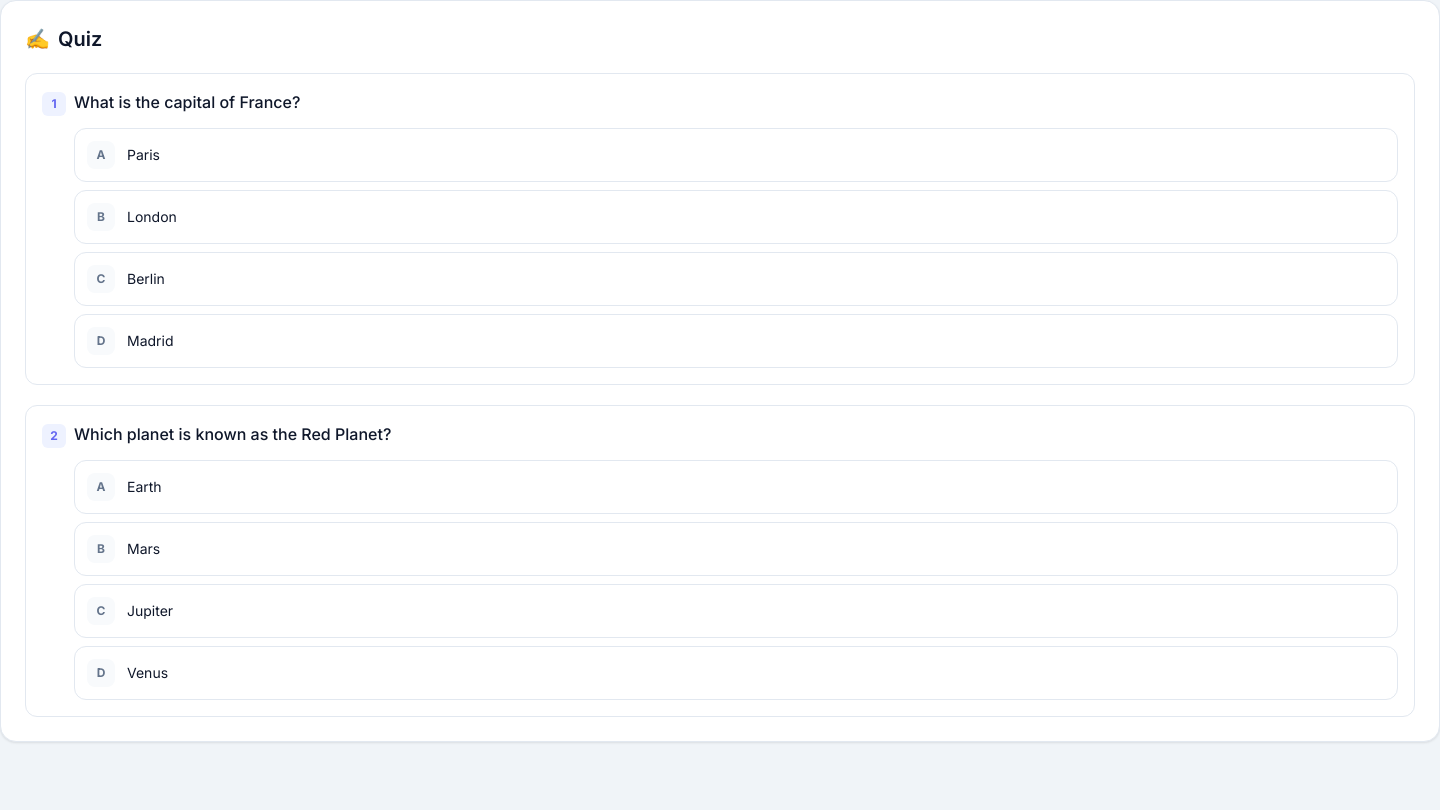
Scenario: Quiz Component › shows correct/incorrect feedback after submission
Step 1. Click the text "Paris" → (144, 154), box left=127, top=146, right=160, bottom=163
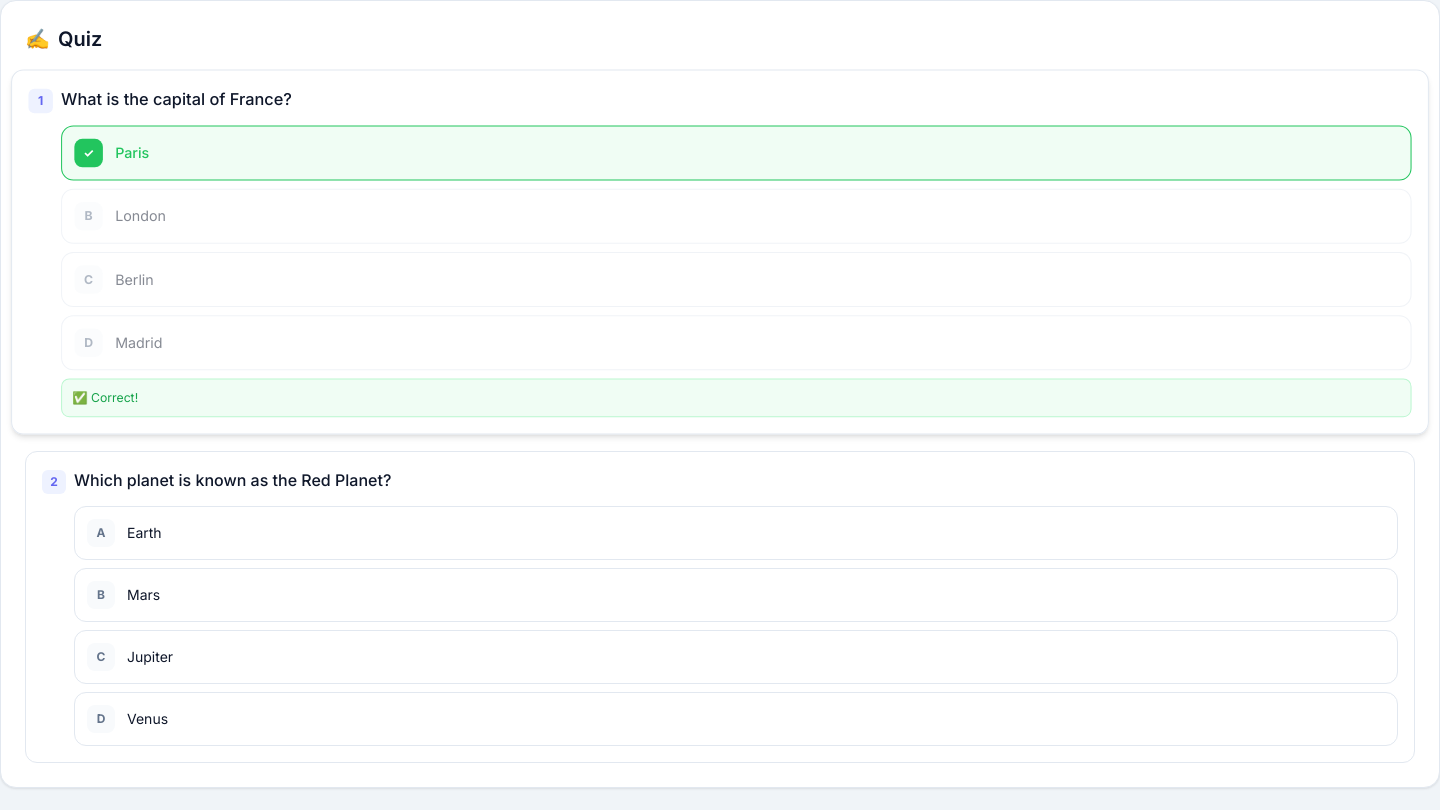
Expected: the text "✅ Correct!" is shown, left=61, top=378, right=1412, bottom=417
